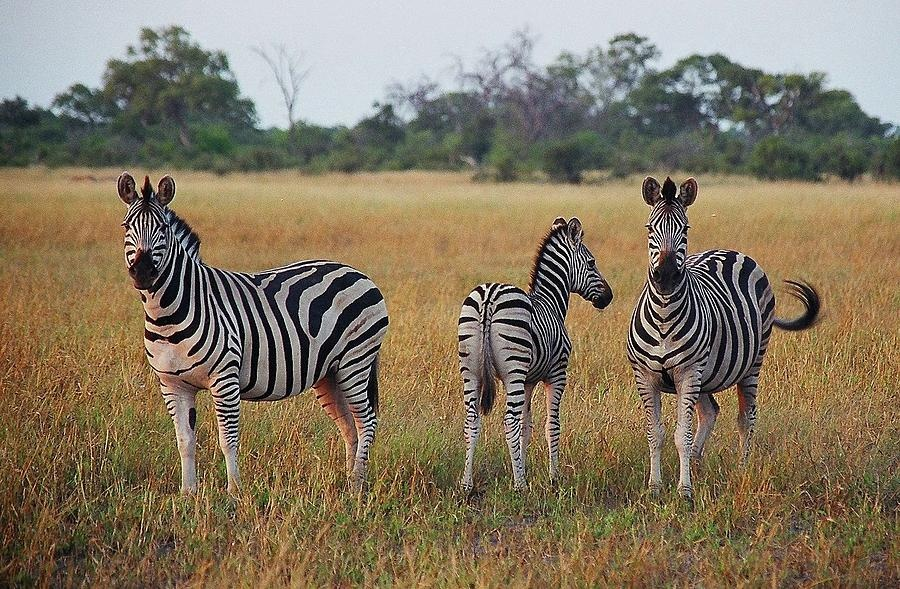zebra: (116, 168, 397, 499), (626, 171, 826, 510), (452, 209, 618, 502)
